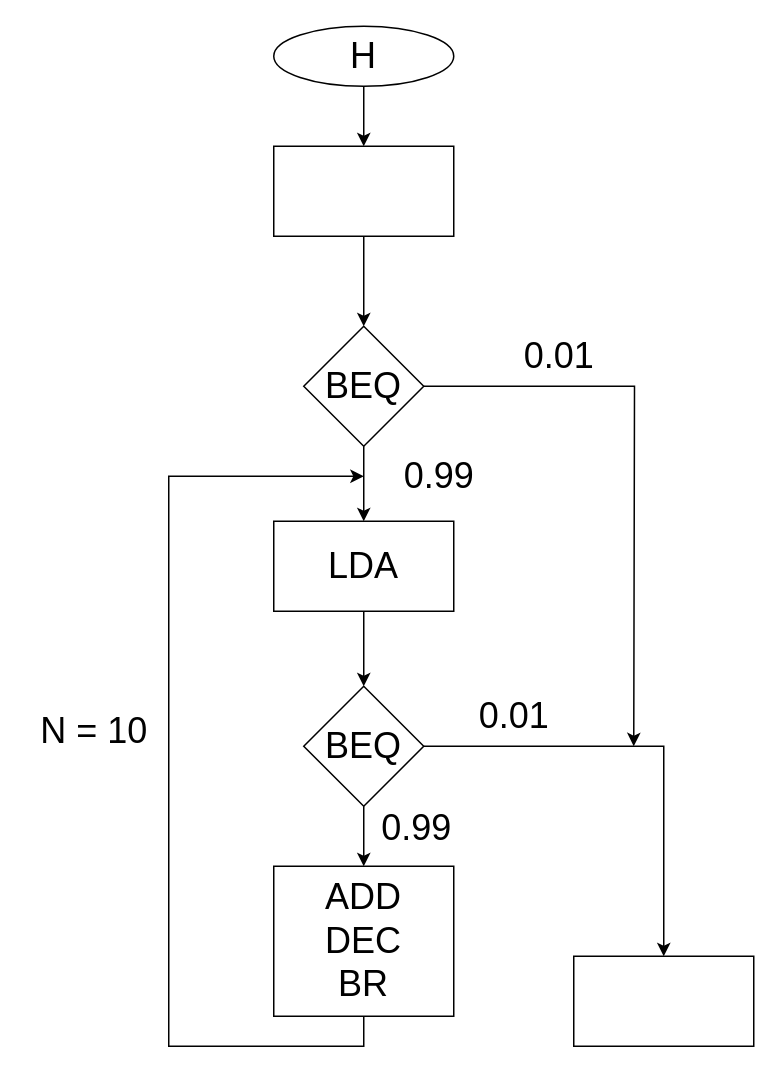
Image size: 780x1085. Some labels were removed from this diagram. The shapes that lost their labels are listed below. From the top down, each one's box as (x1, y1, x2, y2) in pixels, then its label:
(272, 145, 454, 236): CLM LDA
(572, 955, 754, 1046): MOV HLT
